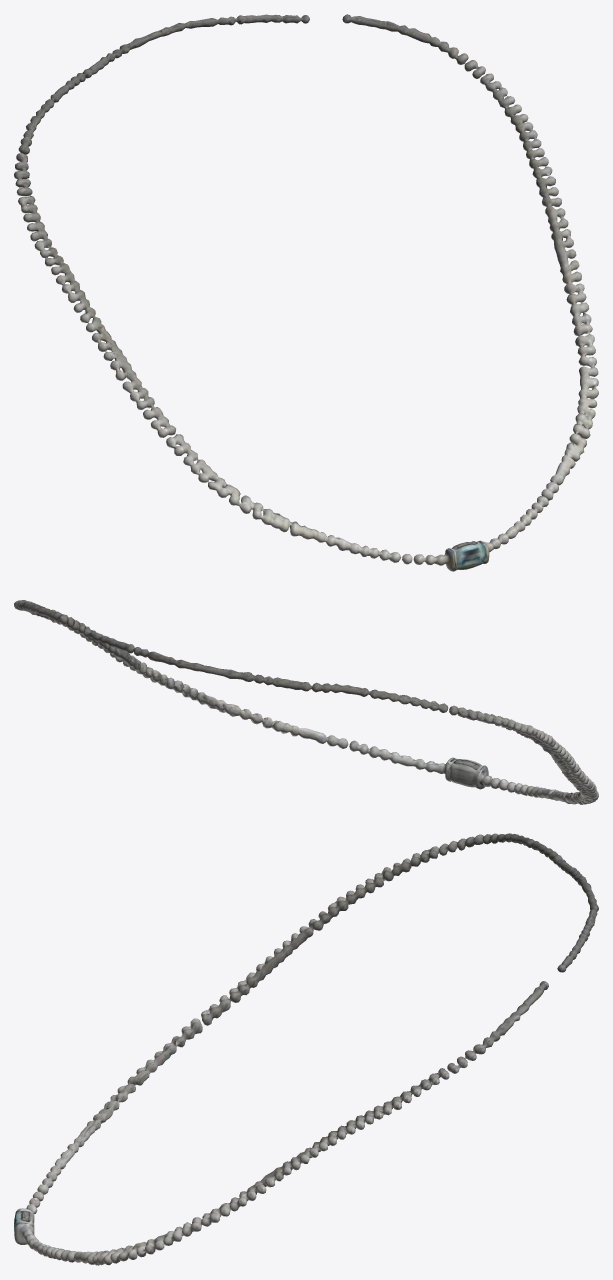
File: collier.glb
3 views of the same model, one above another, from view 1: azimuth 30°, elevation 25°; view 2: azimuth 150°, elevation 25°; view 3: azimuth 270°, elevation 25° (orthographic).
Size of the model in its own units: 1.96 by 1.26 by 2.
1 material, 1 textured.
